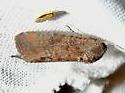army worm adult: (12, 24, 109, 67)
